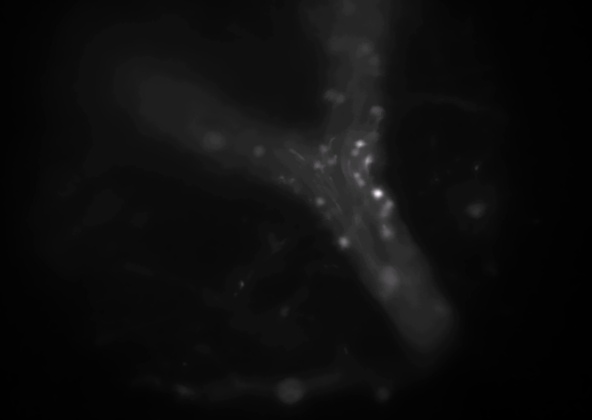cell: (371, 187, 385, 201), (352, 136, 366, 150), (370, 105, 384, 119), (347, 146, 361, 160), (362, 155, 376, 169), (317, 143, 331, 157), (311, 159, 325, 173), (325, 152, 339, 166), (323, 88, 337, 102), (350, 169, 364, 183), (332, 90, 346, 104), (353, 177, 367, 191), (337, 235, 351, 249), (382, 272, 396, 286), (382, 227, 396, 241), (381, 198, 395, 212), (377, 204, 391, 218), (380, 201, 394, 215), (313, 193, 327, 207), (284, 173, 298, 187), (250, 144, 264, 158), (207, 134, 221, 148), (358, 43, 372, 57), (367, 54, 381, 68), (333, 38, 347, 52), (366, 129, 380, 143)
